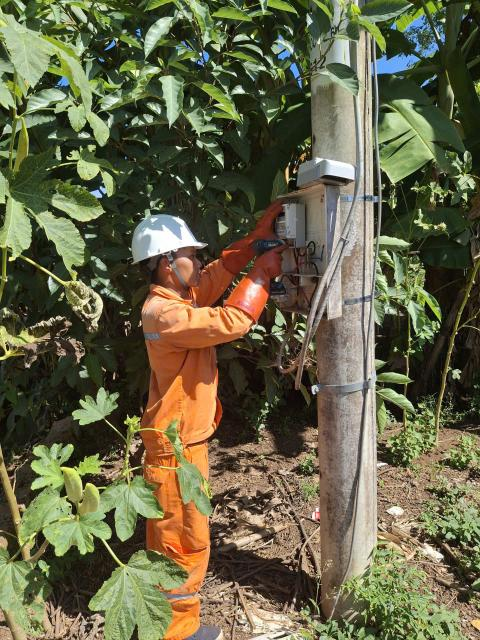gloves: (228, 243, 308, 326), (212, 198, 300, 260)
helmet: (113, 203, 209, 260)
shoes: (161, 620, 241, 640)
